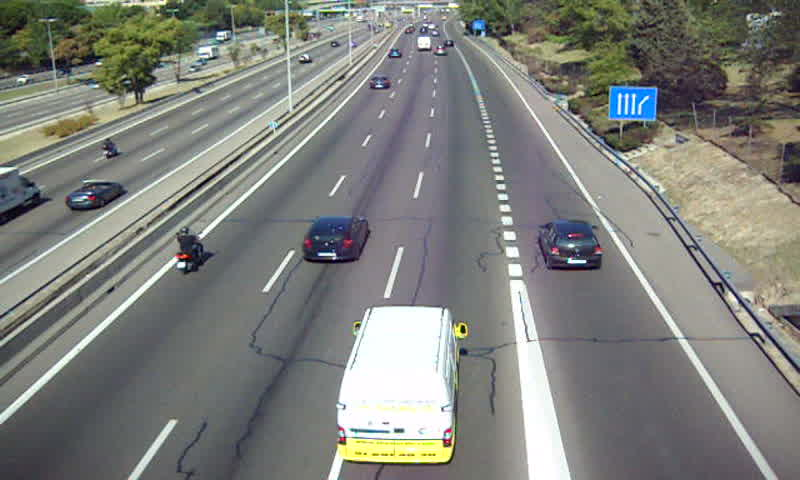car: (537, 222, 604, 272), (303, 216, 367, 263), (368, 75, 391, 92)
motorcycle: (173, 227, 205, 273)
van: (337, 306, 462, 465)
